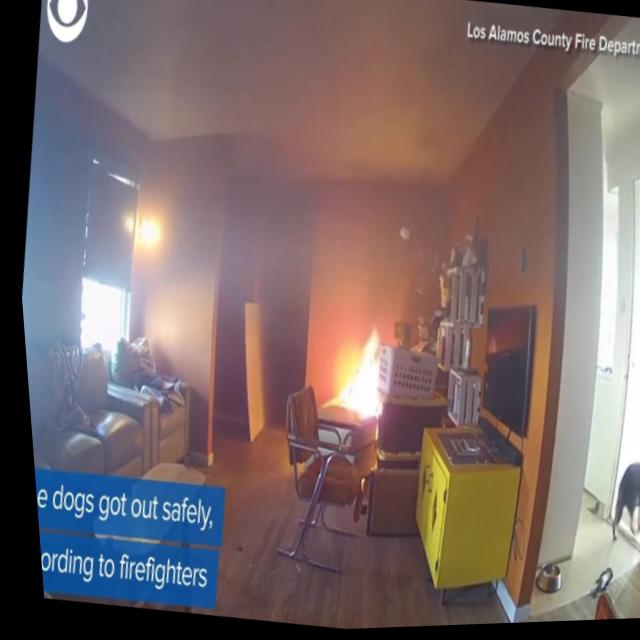fire: (321, 315, 386, 425)
